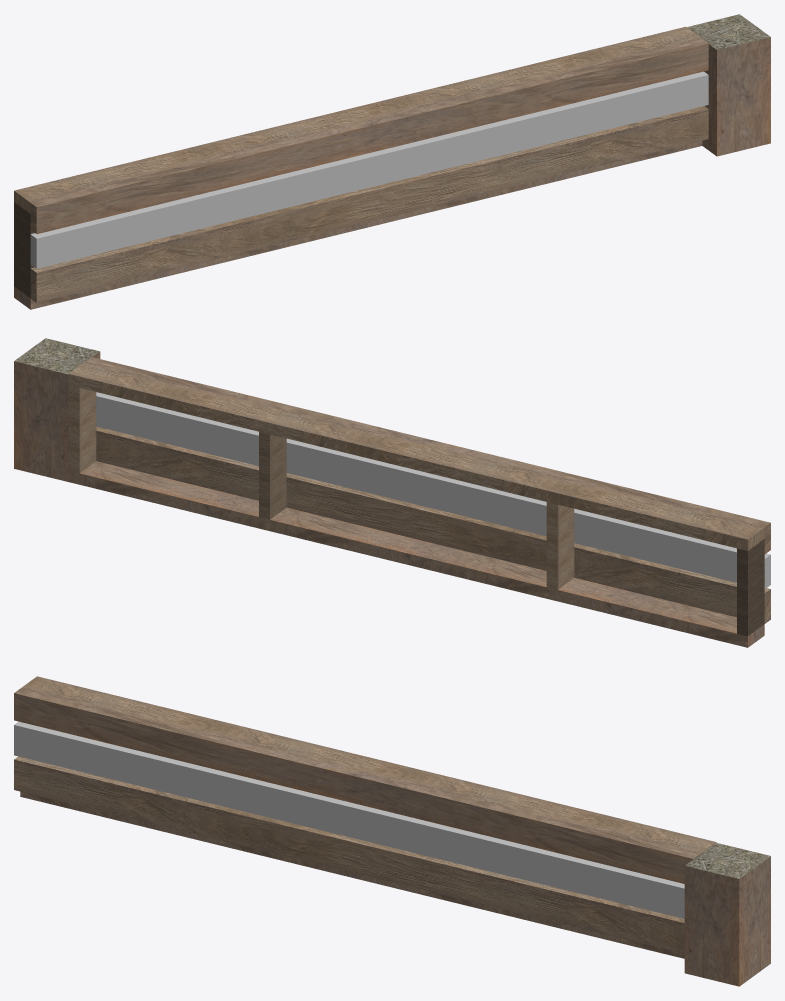
The model's file is WallFloorDividerC.fbx.
3 views of the same model, one above another, from view 1: azimuth 30°, elevation 25°; view 2: azimuth 150°, elevation 25°; view 3: azimuth 330°, elevation 25° (orthographic).
Parts seen in each view (by area): view 1: WallFloorDividerC; view 2: WallFloorDividerC; view 3: WallFloorDividerC.
Part boxes in pixels (<box>): WallFloorDividerC: <box>14,14,770,309</box>; WallFloorDividerC: <box>14,338,770,647</box>; WallFloorDividerC: <box>14,676,770,986</box>.
Size of the model in its own units: 404 by 56.94 by 30.09.
